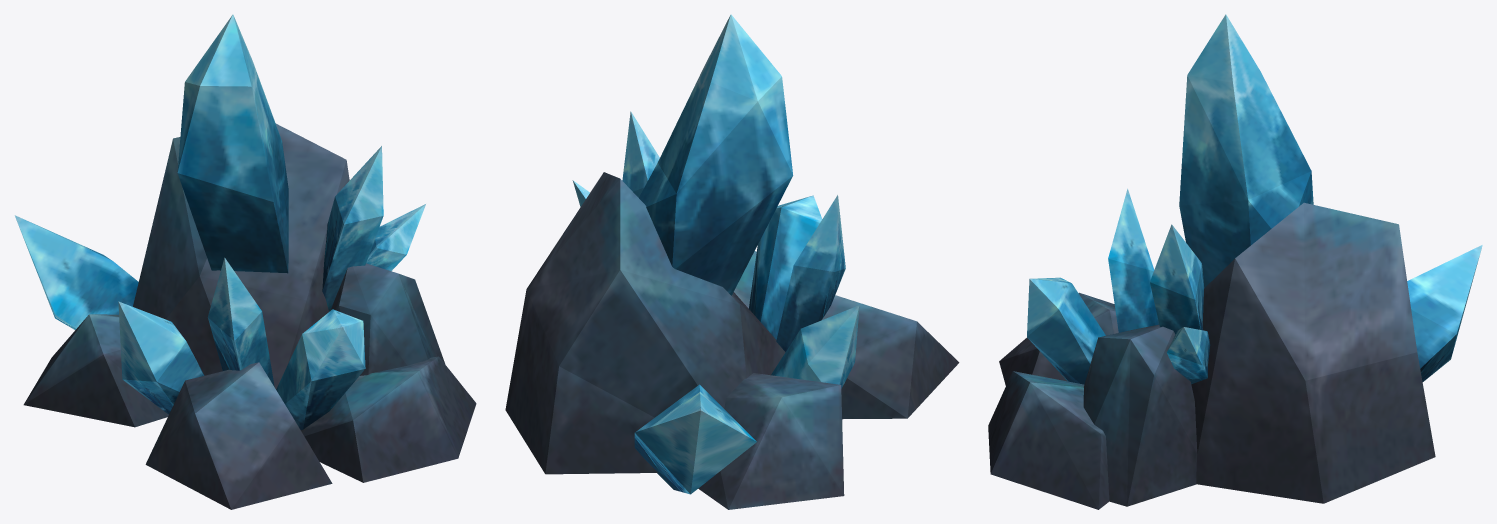
Rendered from mine_ember_ore01.fbx.
3 views of the same model, side by side, from view 1: azimuth 30°, elevation 25°; view 2: azimuth 150°, elevation 25°; view 3: azimuth 270°, elevation 25° (orthographic). The views are drawn at different scales.
Visible parts, largest first — view 1: mine_ember_ore01.psd; view 2: mine_ember_ore01.psd; view 3: mine_ember_ore01.psd.
Part boxes in pixels (x1=…): mine_ember_ore01.psd: x1=14, y1=14, x2=476, y2=509; mine_ember_ore01.psd: x1=505, y1=14, x2=959, y2=509; mine_ember_ore01.psd: x1=988, y1=14, x2=1482, y2=509.
Size of the model in its own units: 1.83 by 2.11 by 2.21.
